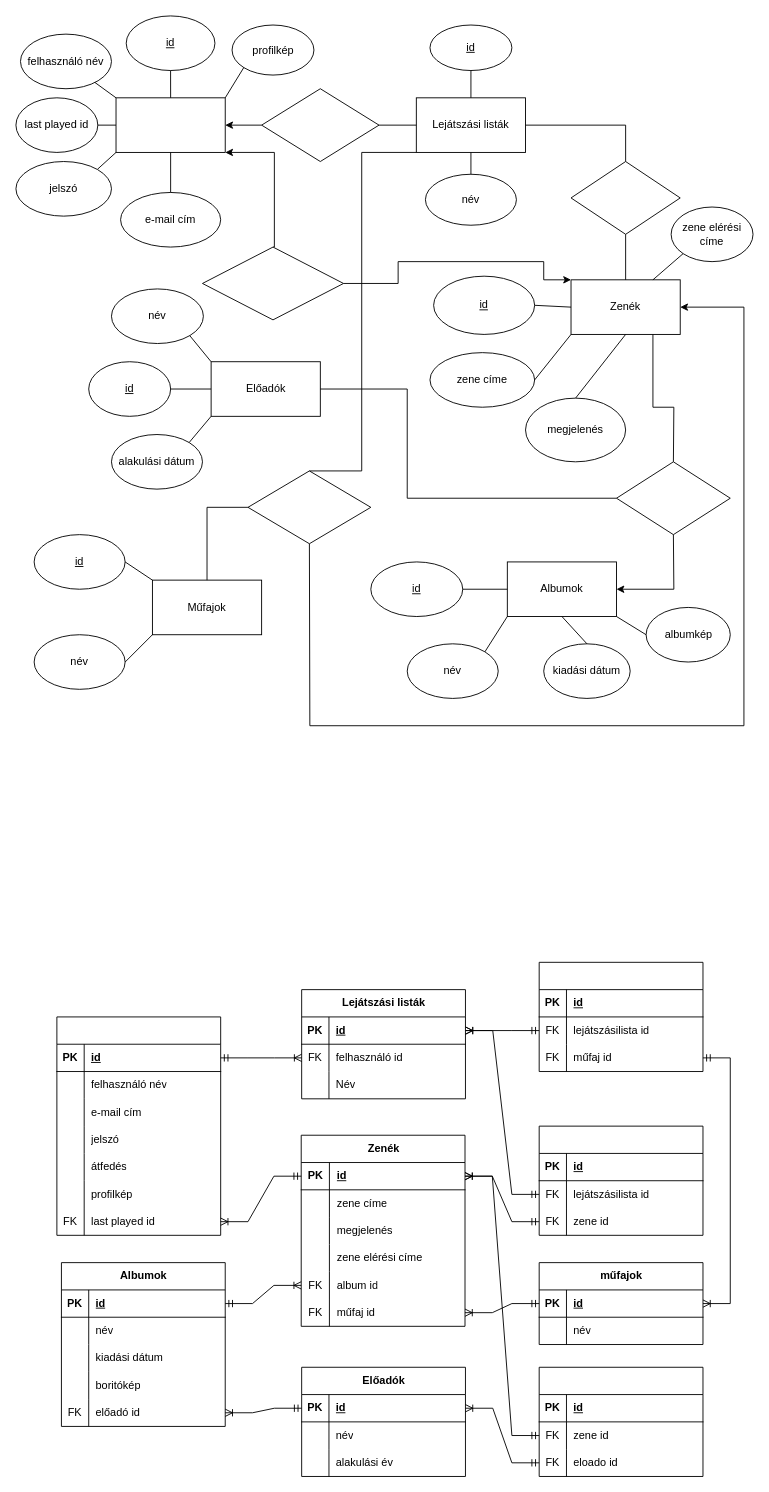
The diagram is 769 pixels wide and 1492 high, and some of its shapes have lost their labels. The box of each missing label's shape, as (x1, y1, x2, y2) in pixels:
alkotói viszony: (616, 461, 730, 535)
F elhasználók: (115, 97, 225, 152)
Felhasználók: (56, 1016, 221, 1235)
last played: (202, 246, 344, 320)
Lejátszási lista zenéi: (538, 1125, 703, 1235)
Lista műfajok: (538, 961, 703, 1072)
létrehozói viszony: (261, 88, 379, 162)
műfaj megjelölés: (247, 470, 371, 544)
tartalmazza: (570, 161, 680, 234)
zene előadók: (538, 1366, 703, 1476)
